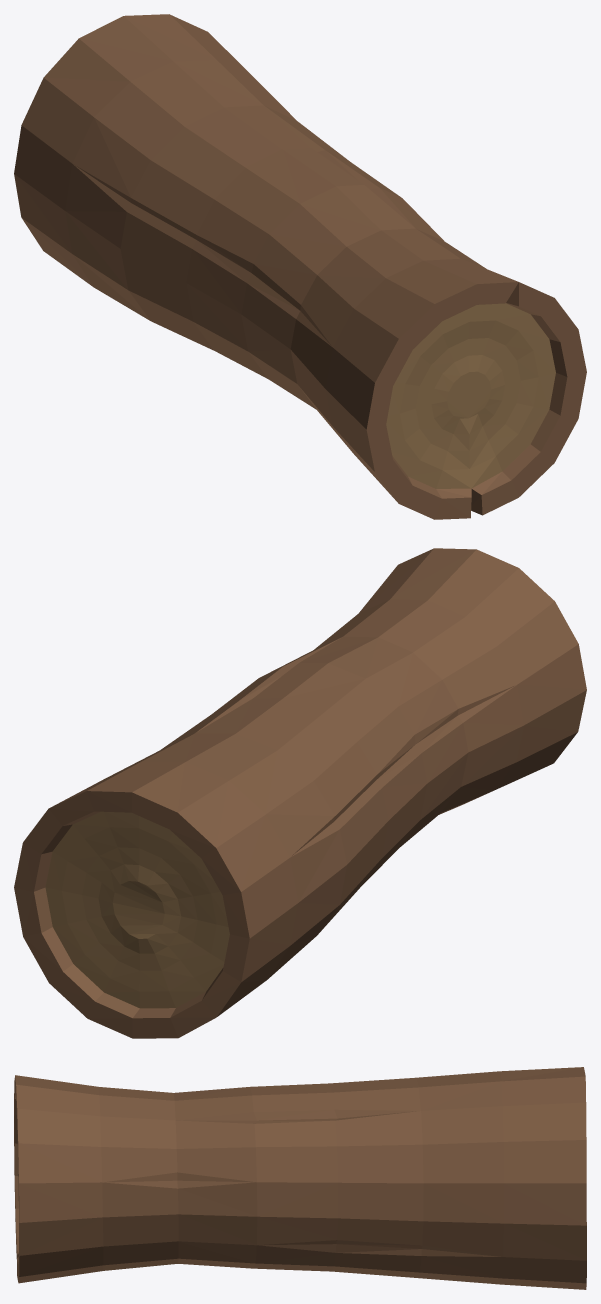
File: log.glb
The picture shows the model from 3 angles, top to bottom: view 1: azimuth 30°, elevation 25°; view 2: azimuth 150°, elevation 25°; view 3: azimuth 270°, elevation 25°; orthographic projection. The views are drawn at different scales.
Visible parts, largest first — view 1: log-col; view 2: log-col; view 3: log-col.
Boxes of the visible parts, box(x1,y1,x2,y2) form: log-col: box(14, 14, 586, 519); log-col: box(14, 548, 586, 1038); log-col: box(14, 1067, 586, 1289).
Bounding box in the file's own units: 0.2154 × 0.2206 × 0.5636.
